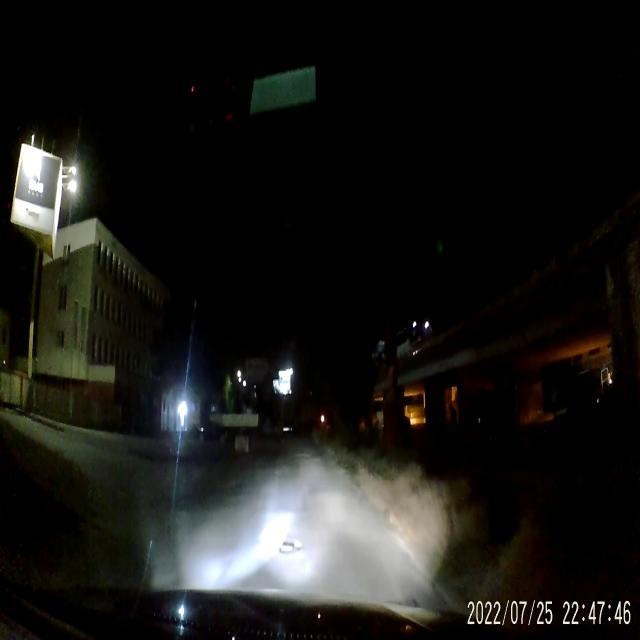Pothole: (274, 530, 300, 560)
